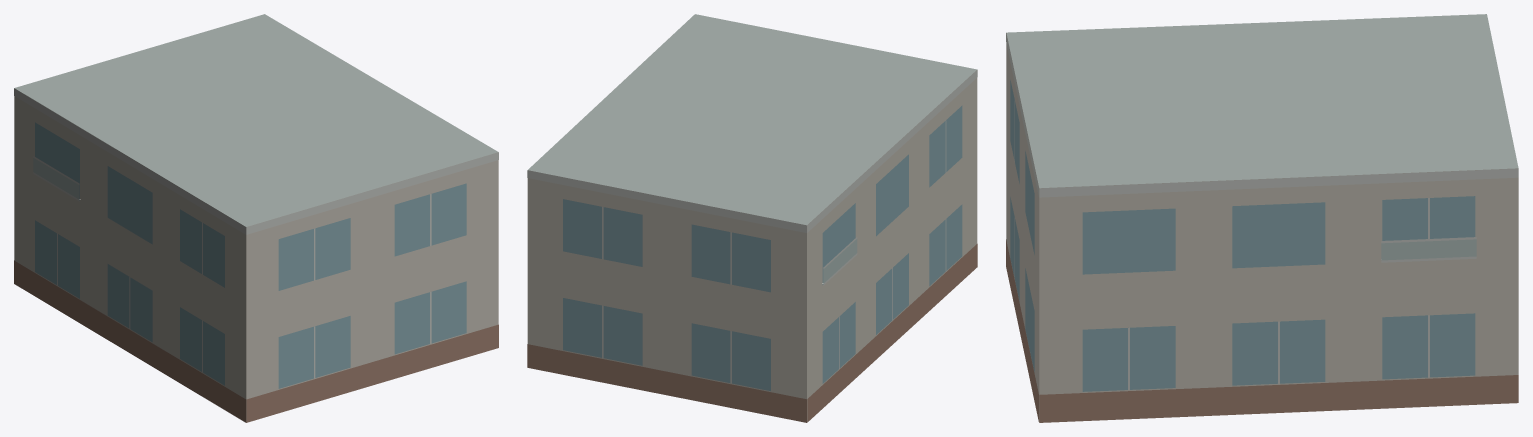
The model's file is survey-upis-33023803.glb.
3 renders of one model, left to right at view 1: azimuth 30°, elevation 25°; view 2: azimuth 150°, elevation 25°; view 3: azimuth 270°, elevation 25°, orthographic. The views are drawn at different scales.
Visible parts, largest first — view 1: survey-upis-33023803.tmp; view 2: survey-upis-33023803.tmp; view 3: survey-upis-33023803.tmp.
Boxes of the visible parts, x1,y1,x2,y2 form: survey-upis-33023803.tmp: (14,14,498,422); survey-upis-33023803.tmp: (527,14,977,422); survey-upis-33023803.tmp: (1006,14,1518,422).
Bounding box in the file's own units: 9.72 × 6.1 × 12.08.
